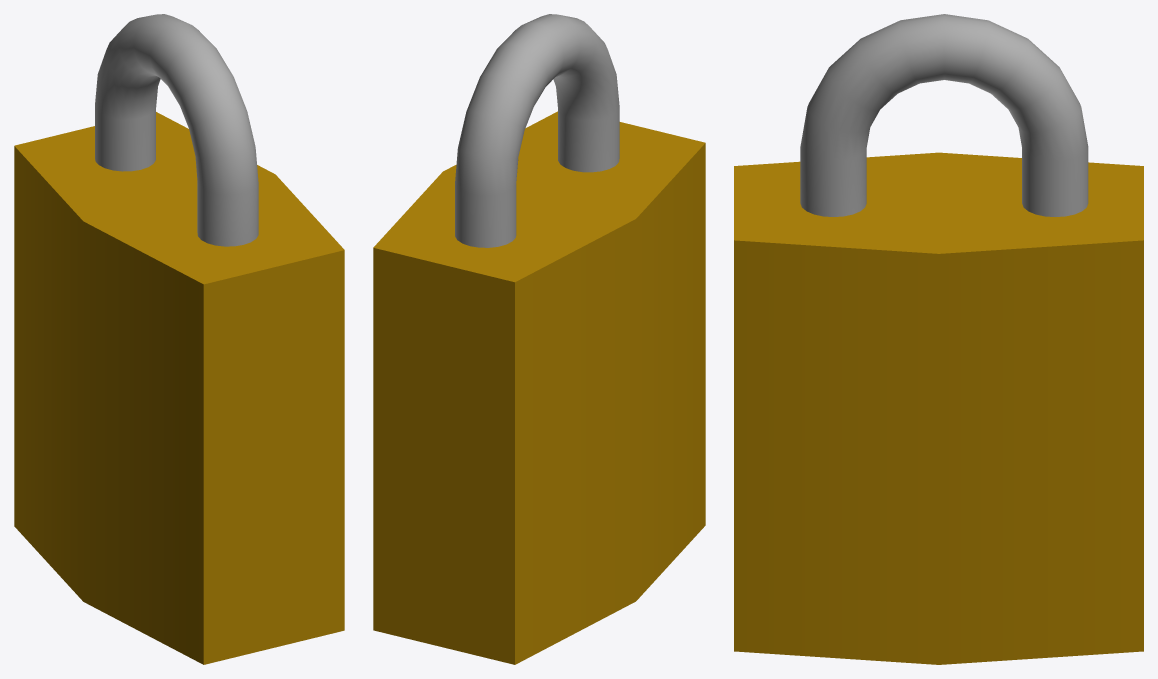
Rendered from Lock.fbx.
3 renders of one model, left to right at view 1: azimuth 30°, elevation 25°; view 2: azimuth 150°, elevation 25°; view 3: azimuth 270°, elevation 25°, orthographic. The views are drawn at different scales.
Visible parts, largest first — view 1: Lock, Shackle; view 2: Lock, Shackle; view 3: Lock, Shackle.
Boxes of the visible parts, x1,y1,x2,y2 form: Lock: [14, 112, 344, 664]; Shackle: [95, 14, 258, 246]; Lock: [373, 111, 705, 664]; Shackle: [455, 14, 619, 247]; Lock: [734, 152, 1143, 664]; Shackle: [800, 14, 1088, 216].
Bounding box in the file's own units: 5.58 × 15.33 × 9.53.
